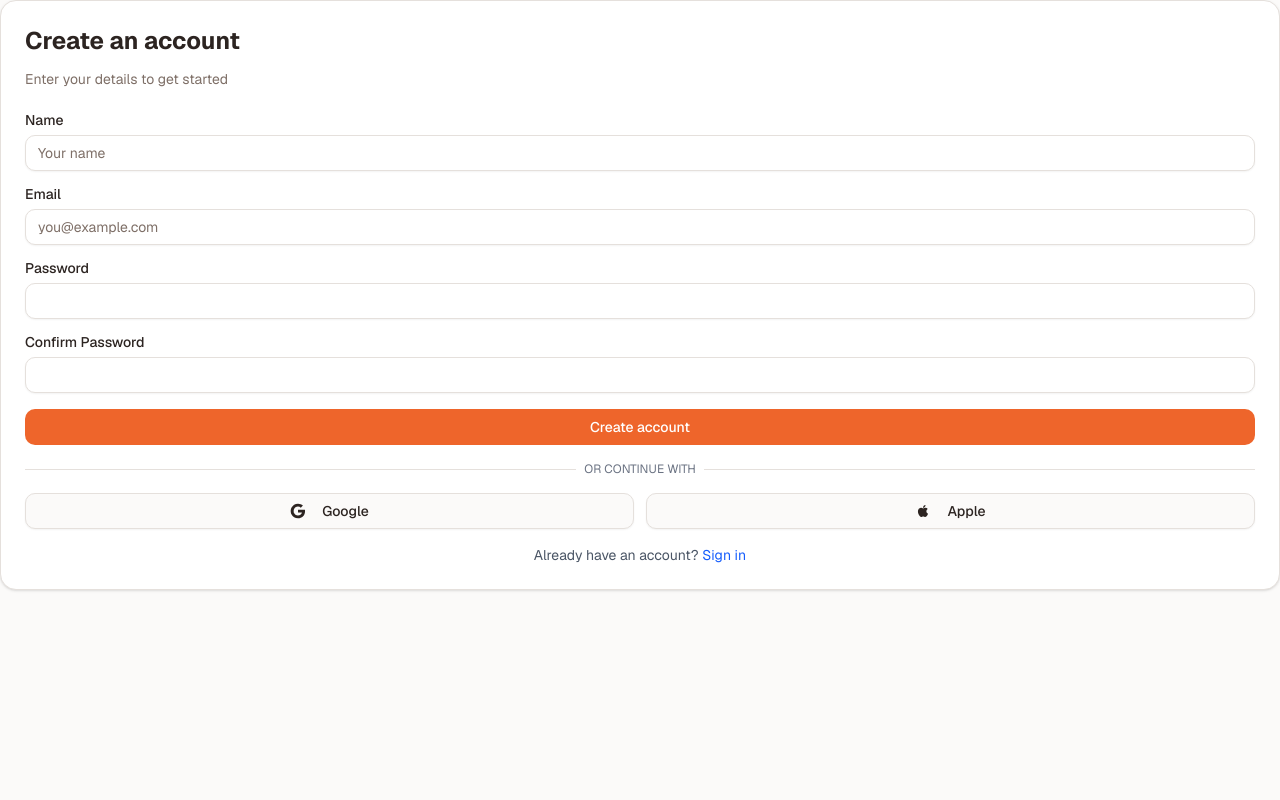
it: RegisterPage › validates minimum password length
The width and height of the screenshot is (1280, 800).
Type "Test User" into the field labelled "Name" at (640, 153), box [25,135,1255,171]
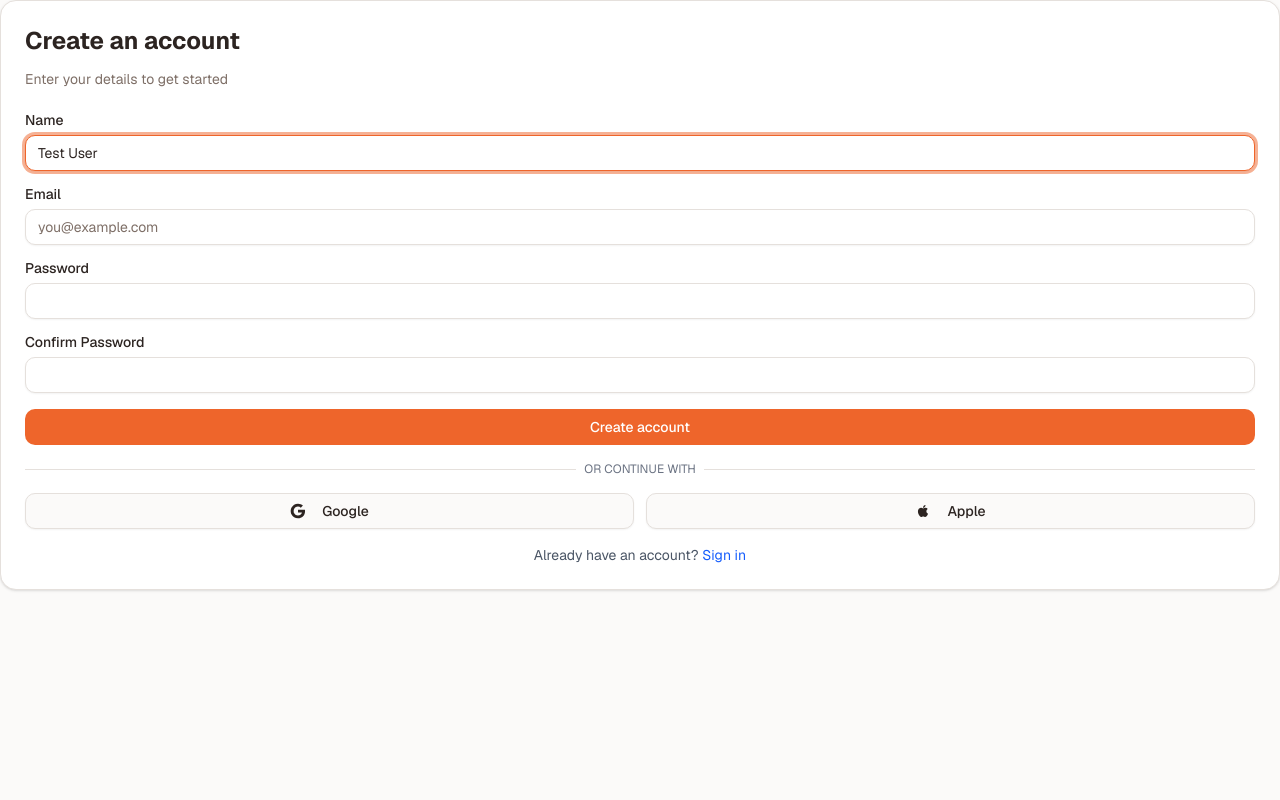
Type "test@example.com" into the field labelled "Email" at (640, 227), box [25,209,1255,245]
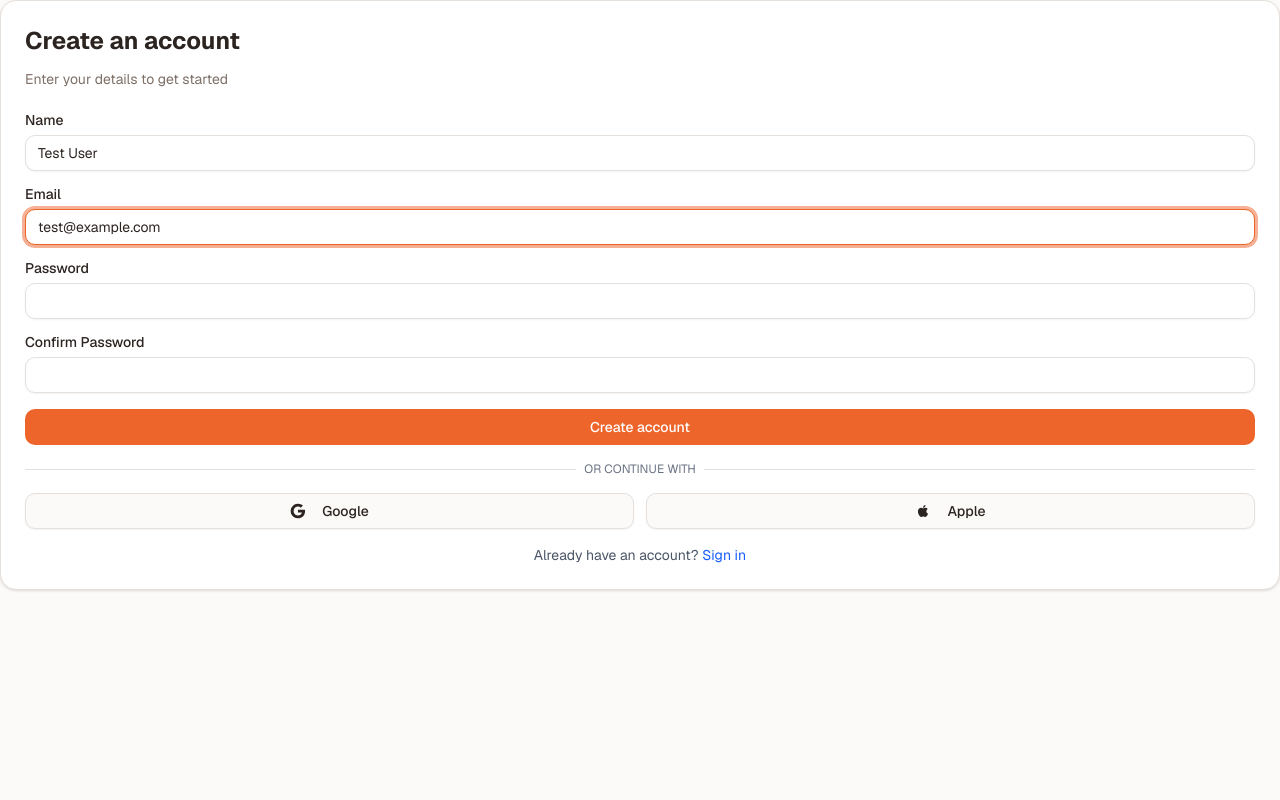
Type "short" into the password field labelled "Password" at (640, 301), box [25,283,1255,319]
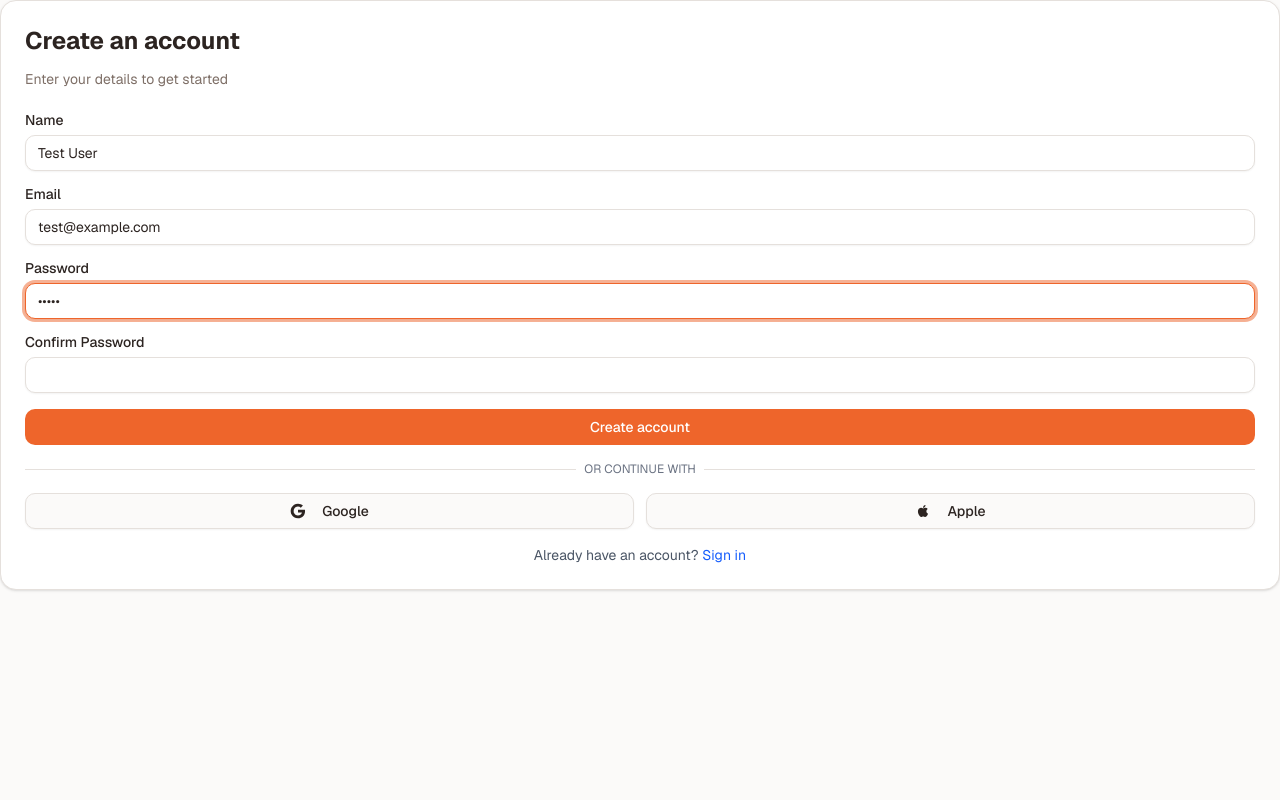
Type "short" into the password field labelled "Confirm Password" at (640, 375), box [25,357,1255,393]
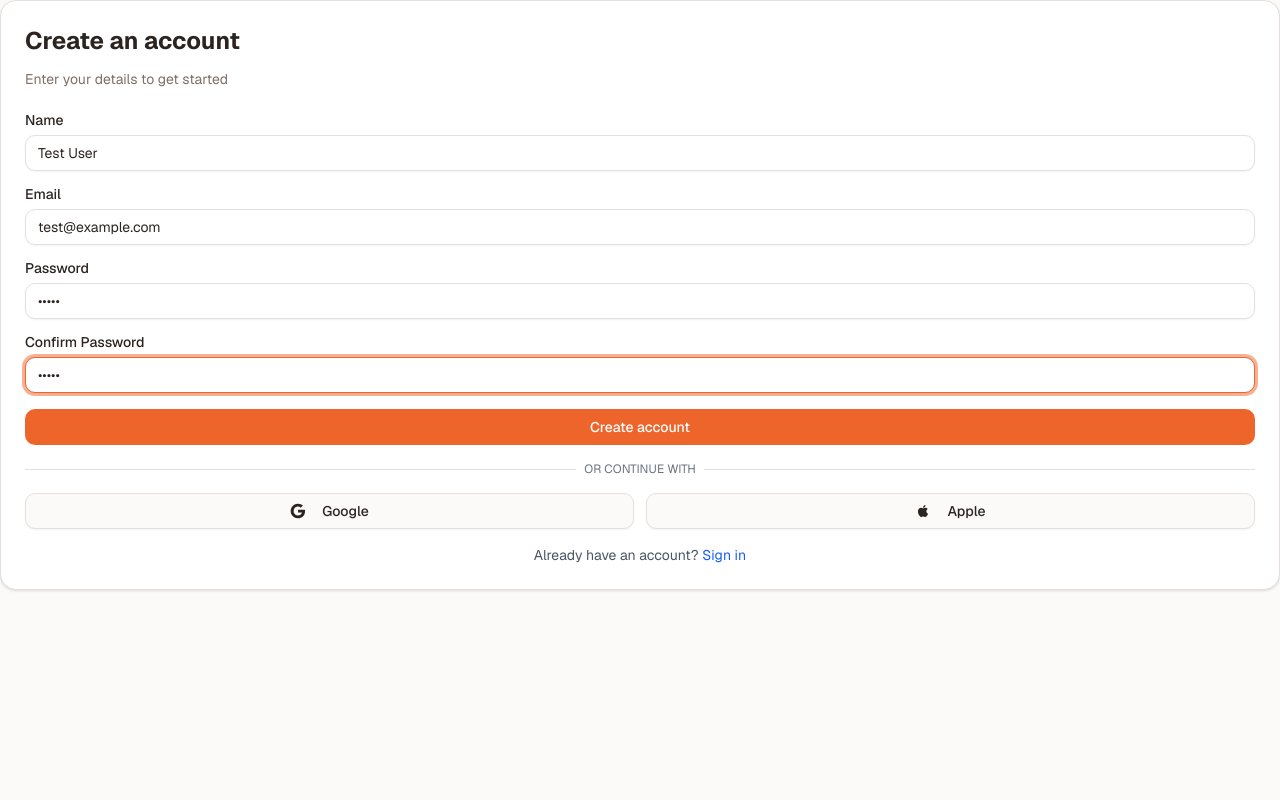
Click the button "Create account" at (640, 427), box [25,409,1255,445]
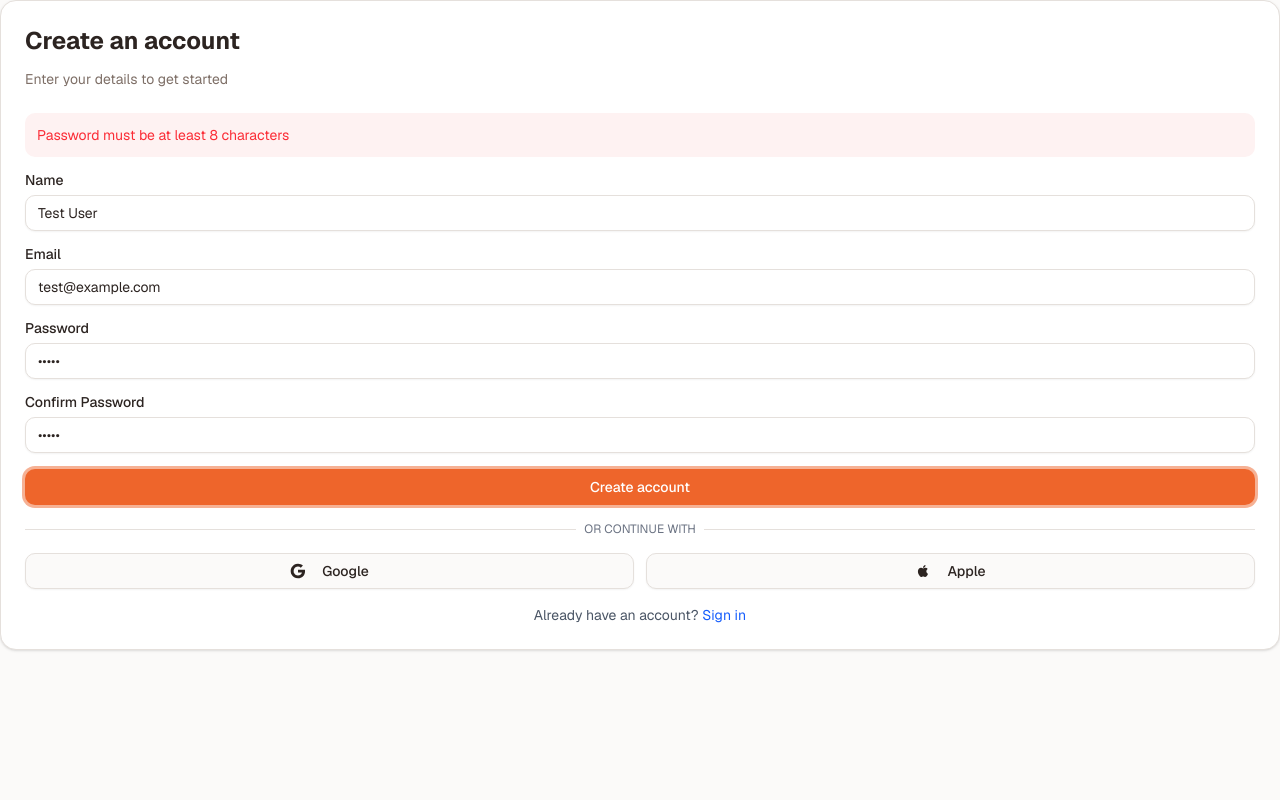
Expected: the text "Password must be at least 8 characters" is shown, [25,113,1255,157]
